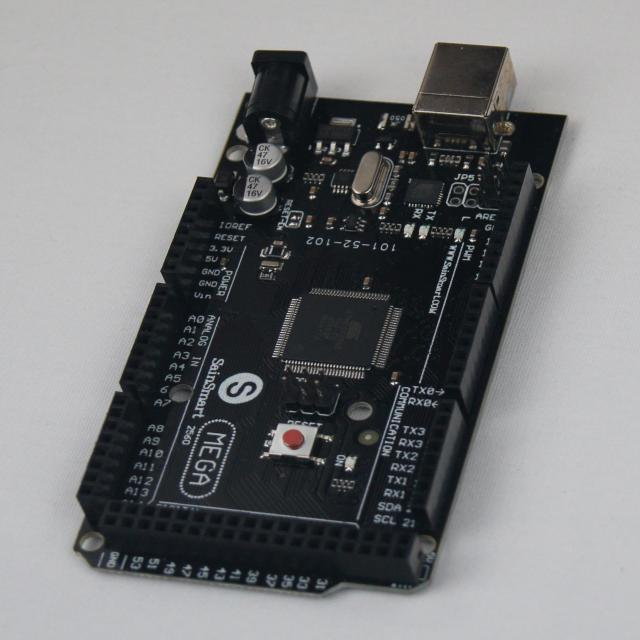Arduino Mega 2560 -Black-: (76, 44, 565, 594)
